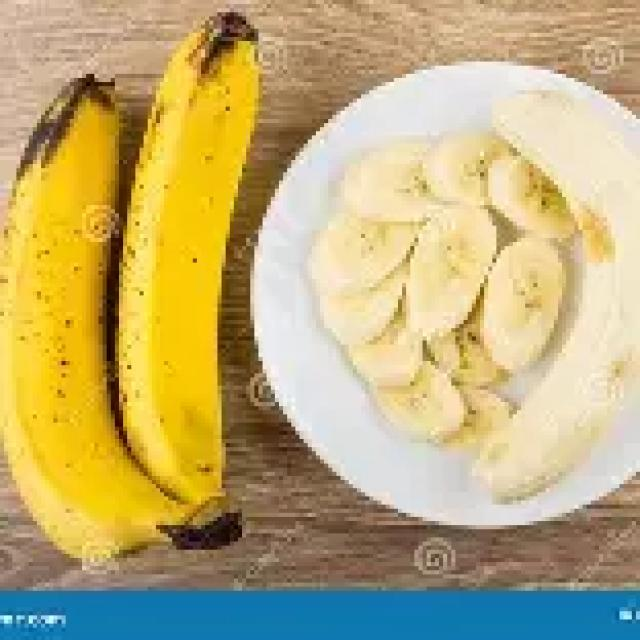BANANA: (4, 12, 254, 558)
